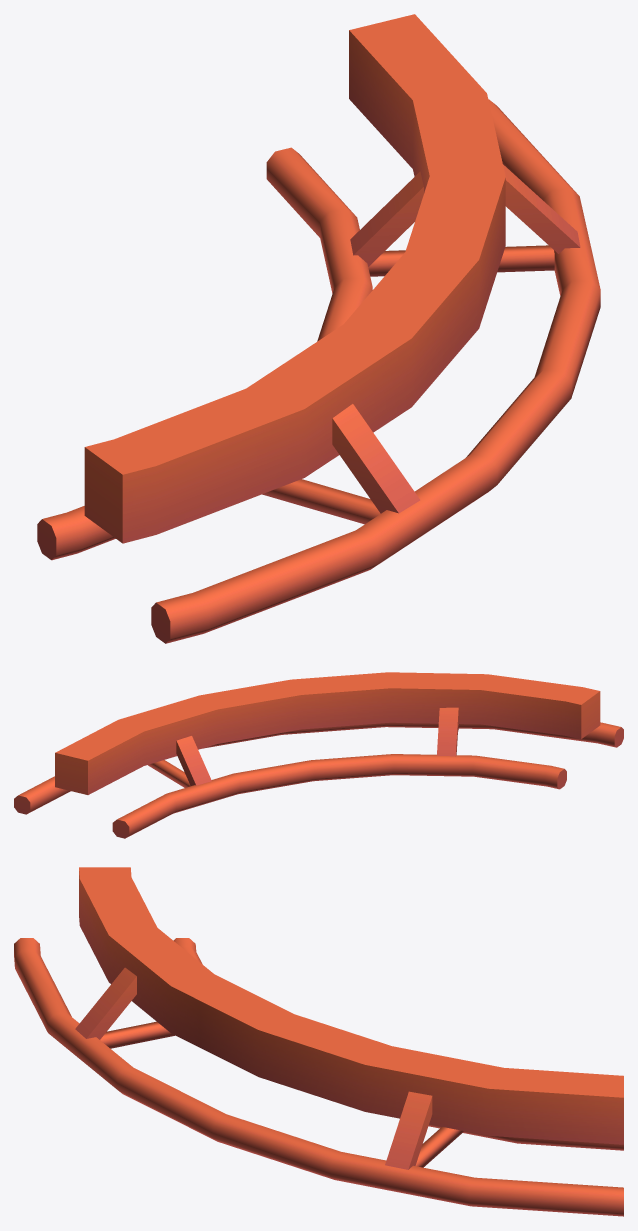
The model's file is coaster-hanging-corner-small.glb.
3 views of the same model, one above another, from view 1: azimuth 30°, elevation 25°; view 2: azimuth 150°, elevation 25°; view 3: azimuth 270°, elevation 25° (orthographic). The views are drawn at different scales.
Visible parts, largest first — view 1: coaster-hanging-corner-small; view 2: coaster-hanging-corner-small; view 3: coaster-hanging-corner-small.
Part boxes in pixels (<box>): coaster-hanging-corner-small: <box>37,14,600,643</box>; coaster-hanging-corner-small: <box>14,672,623,838</box>; coaster-hanging-corner-small: <box>14,867,623,1216</box>.
Bounding box in the file's own units: 2.35 × 0.3999 × 2.35.
Materials: 1 (1 with a texture image).
